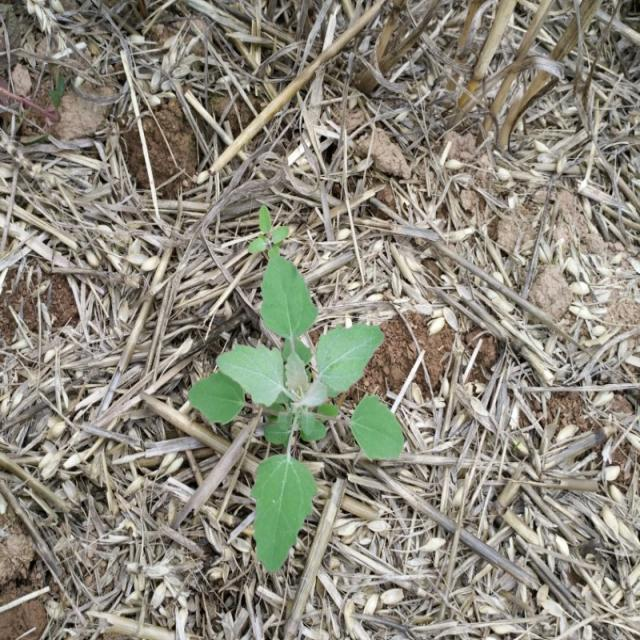ca: (193, 255, 403, 572)
